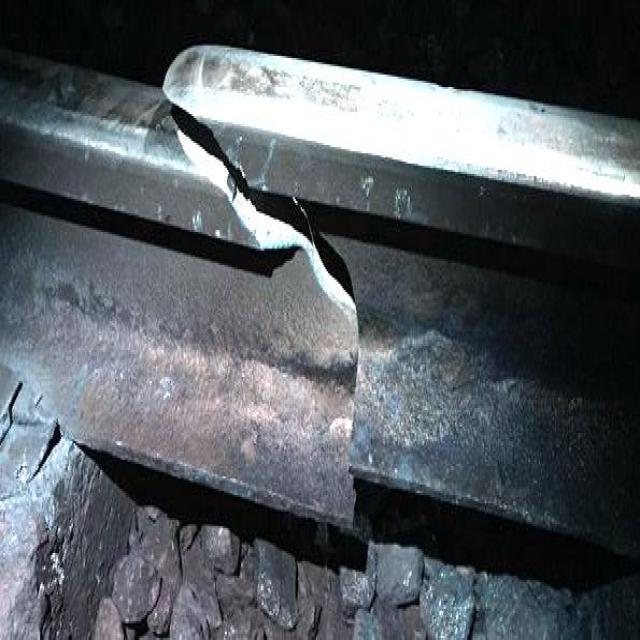broken_rail_high: (160, 69, 378, 509)
